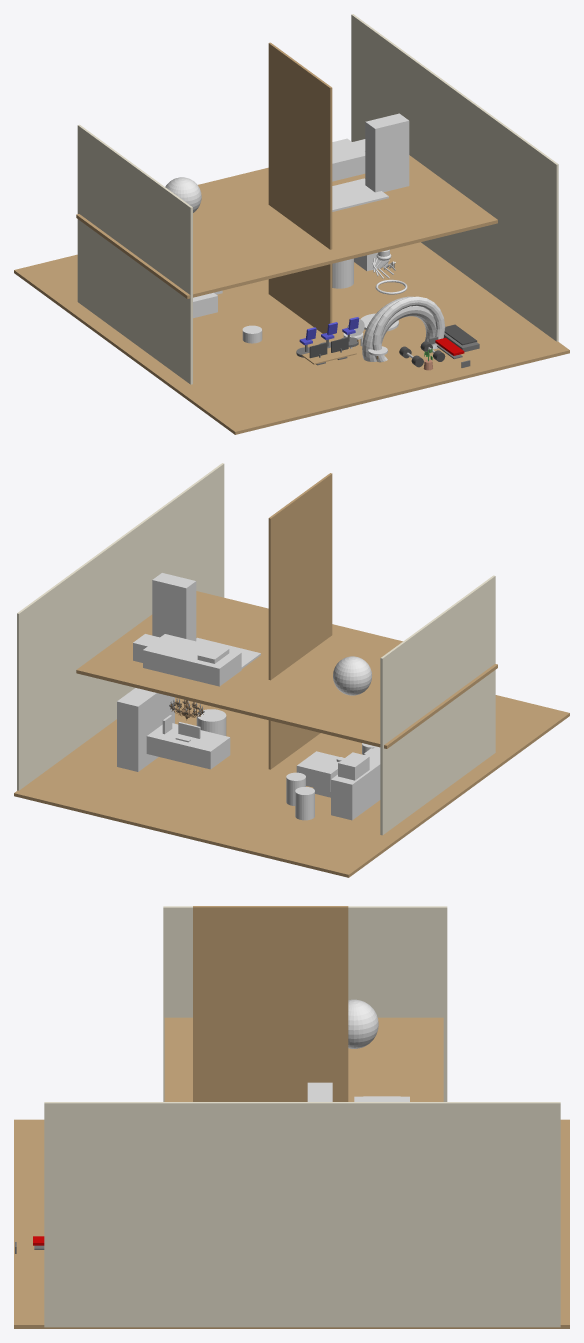
The picture shows the model from 3 angles, top to bottom: view 1: azimuth 30°, elevation 25°; view 2: azimuth 150°, elevation 25°; view 3: azimuth 270°, elevation 25°; orthographic projection. The views are drawn at different scales.
Visible parts, largest first — view 1: FirstFloor, RightWall, MiddleFloor, LeftWall, RoomDivider, BedroomRug, RoundSofa, SofaBackrest, Pillow1, YogaMat, Bed, OfficeBookshelf; view 2: FirstFloor, RightWall, LeftWall, MiddleFloor, RoomDivider, TreadmillBase, Pillow1, BedroomRug, OfficeComputer, CoffeeMachine, Bed, CafeChair1 (+3 smaller); view 3: RightWall, RoomDivider, LeftWall, MiddleFloor, FirstFloor, Bed.
Part boxes in pixels (x1,y1,x2,y2): FirstFloor: (14,242,569,434); RightWall: (351,14,558,341); MiddleFloor: (76,155,497,298); LeftWall: (77,124,192,384); RoomDivider: (268,42,332,338); BedroomRug: (365,113,409,192); RoundSofa: (362,296,436,361); SofaBackrest: (372,296,445,362); Pillow1: (332,138,365,181); YogaMat: (332,178,388,211); Bed: (165,177,201,212); OfficeBookshelf: (332,258,353,288); FirstFloor: (14,695,569,877); RightWall: (17,463,224,790); LeftWall: (380,575,495,835); MiddleFloor: (76,591,497,748); RoomDivider: (268,473,332,769); TreadmillBase: (117,688,174,771); Pillow1: (143,634,241,686); BedroomRug: (152,573,196,641); OfficeComputer: (146,723,230,769); CoffeeMachine: (331,746,380,820); Bed: (333,656,372,695); CafeChair1: (296,751,344,791); RightWall: (44,1102,560,1327); RoomDivider: (193,906,348,1101); LeftWall: (163,906,447,1101); MiddleFloor: (164,1017,443,1101); FirstFloor: (14,1119,569,1328); Bed: (348,999,378,1048).
Size of the model in its own units: 15.75 by 12.72 by 17.98.
64 materials, 2 textured.
